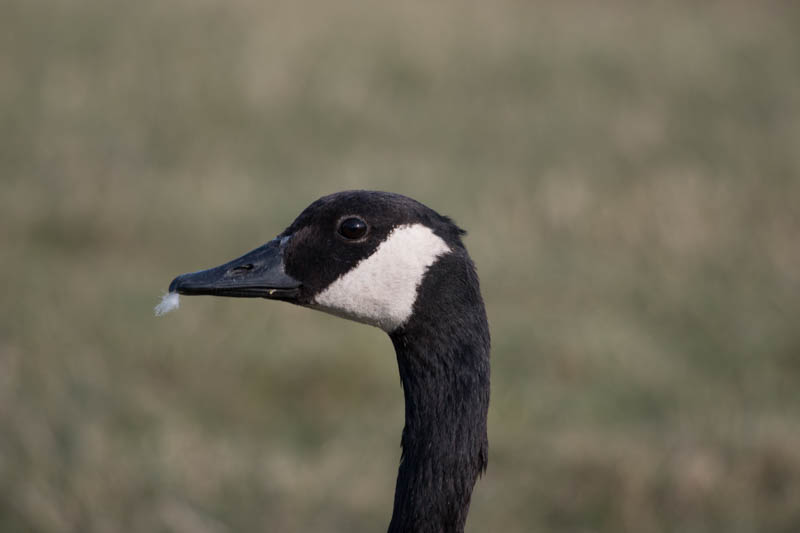goose-head: (169, 190, 489, 333)
